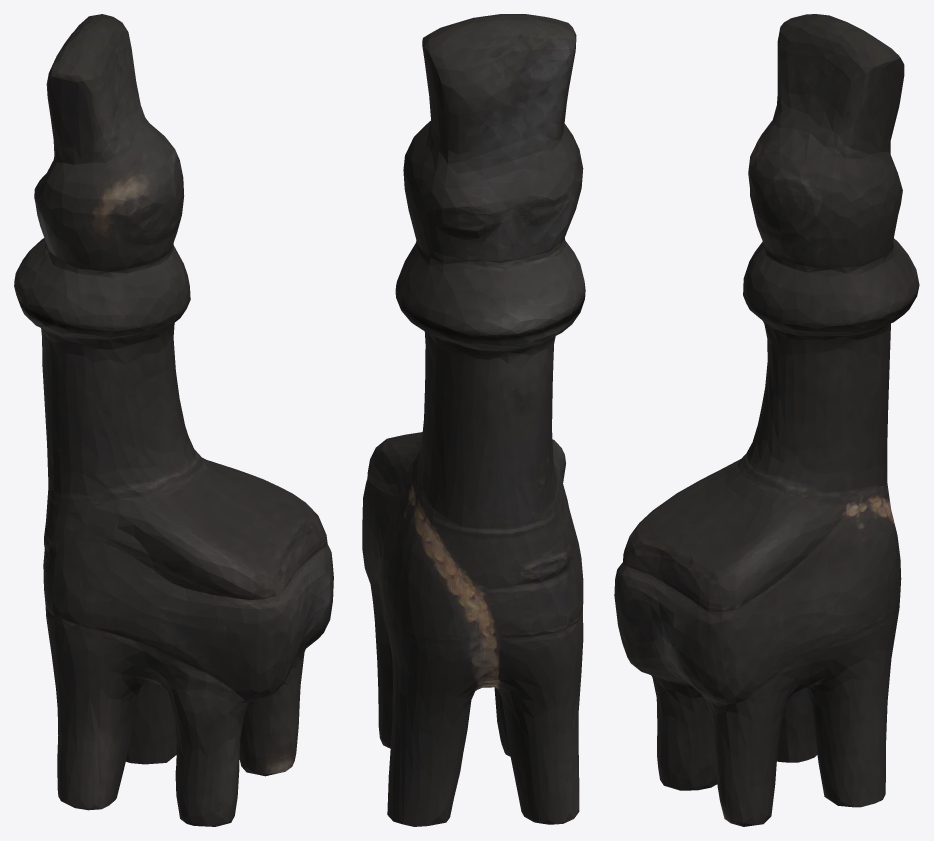
The model's file is 87e88bc7-eef2-44ca-8f3e-5392317a7616.glb.
3 views of the same model, side by side, from view 1: azimuth 30°, elevation 25°; view 2: azimuth 150°, elevation 25°; view 3: azimuth 270°, elevation 25° (orthographic). The views are drawn at different scales.
Visible parts, largest first — view 1: world; view 2: world; view 3: world.
Boxes of the visible parts, box(x1,y1,x2,y2) form: world: box(14, 14, 333, 826); world: box(362, 14, 585, 826); world: box(614, 14, 919, 826).
Bounding box in the file's own units: 0.2849 × 0.8253 × 0.3082.
1 material, 1 textured.
